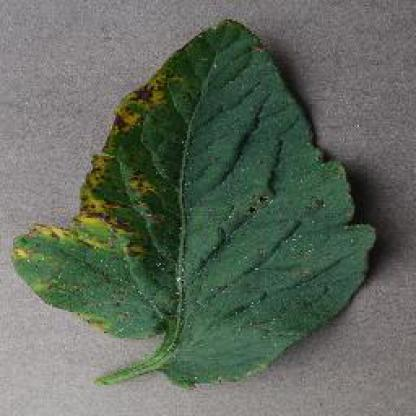bad leaf: (16, 27, 394, 380)
